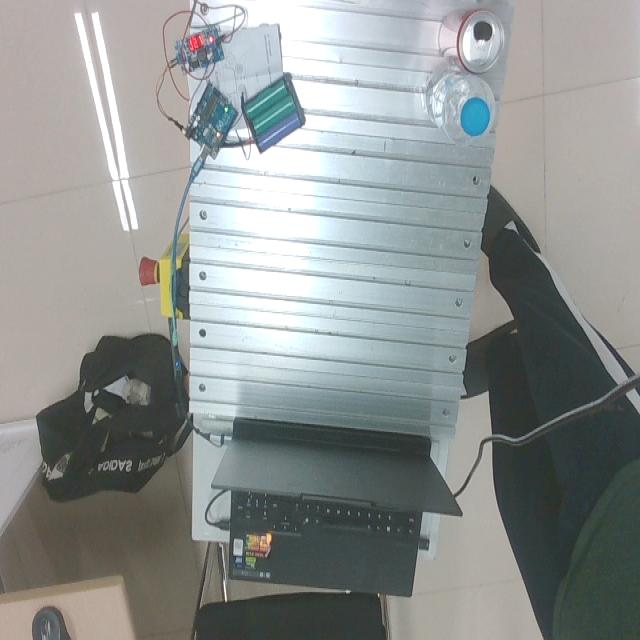coca: (454, 12, 505, 76)
lavie: (423, 67, 496, 148)
